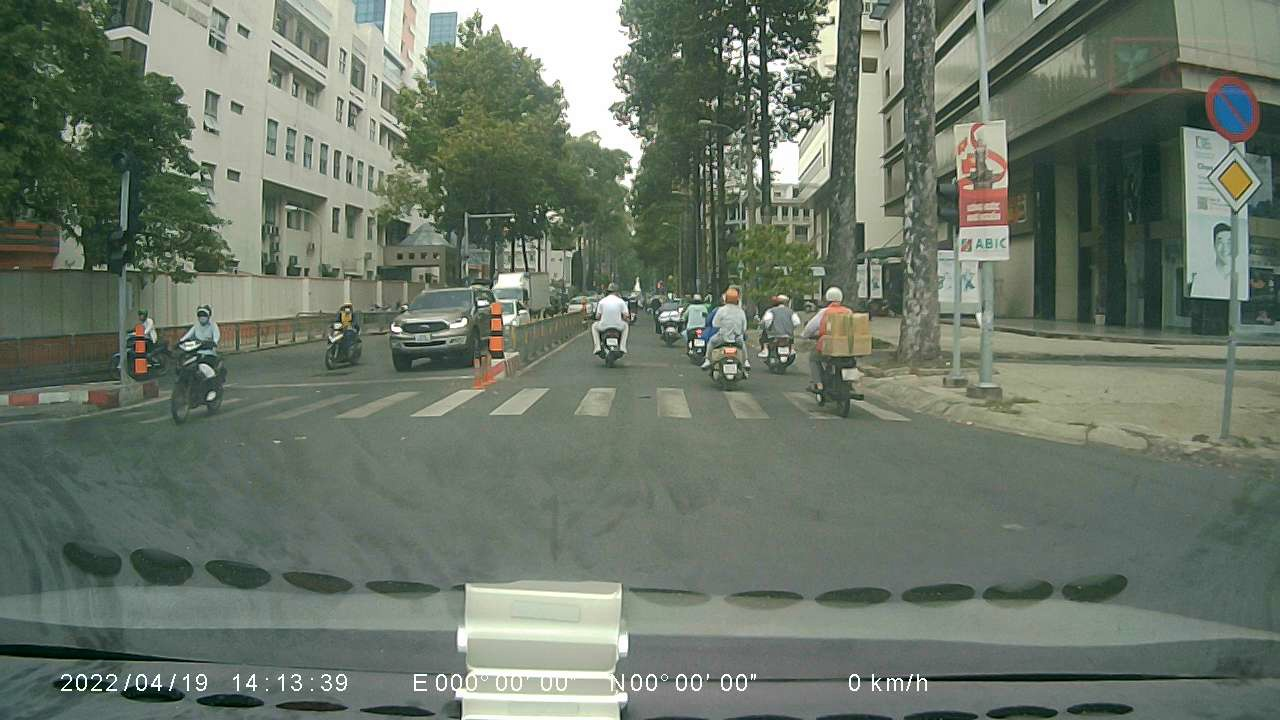Bien khac: (1205, 146, 1263, 215)
Cam do xe: (1202, 74, 1265, 144)
